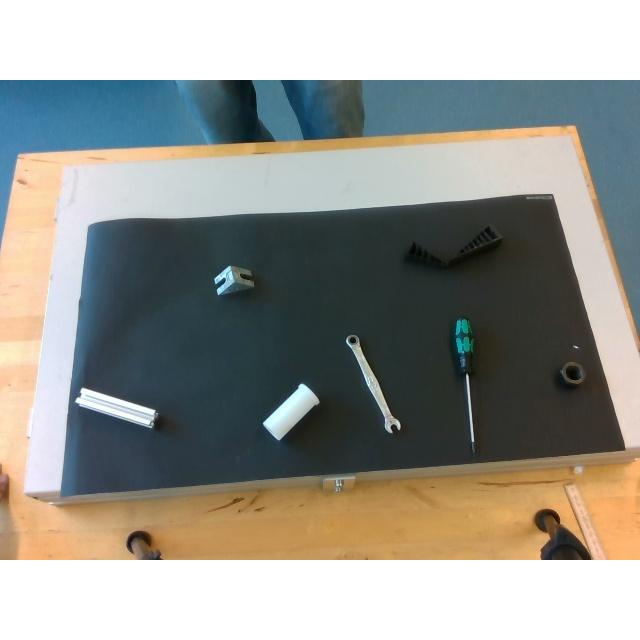F20_20_G: (76, 386, 156, 426)
M20: (556, 360, 590, 390)
Screwdriver: (450, 313, 484, 455)
Spacer: (261, 382, 321, 442)
Wrench: (343, 333, 401, 435)
